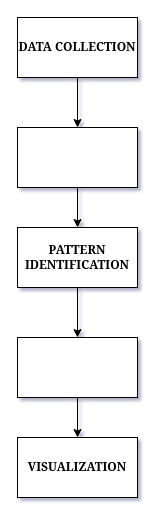
Some shapes in this 161 by 521 pixel diagram are drawn without their labels. The shapes that lost their labels are listed below. From the top down, each one's centre as x and y in pixels, then its label:
pixel 77 157: CLASSIFICATION
pixel 77 367: PREDICTION
